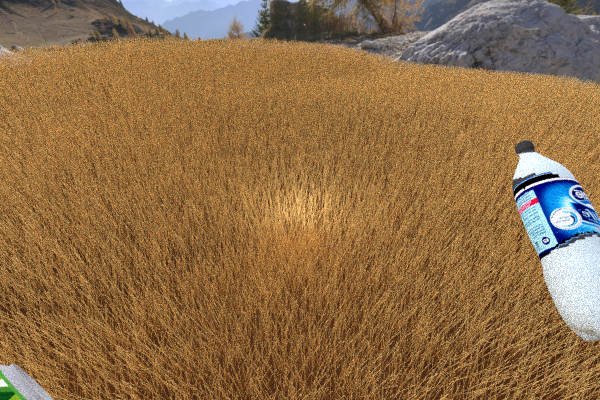bottle: (512, 140, 600, 343)
can: (0, 363, 62, 400)
